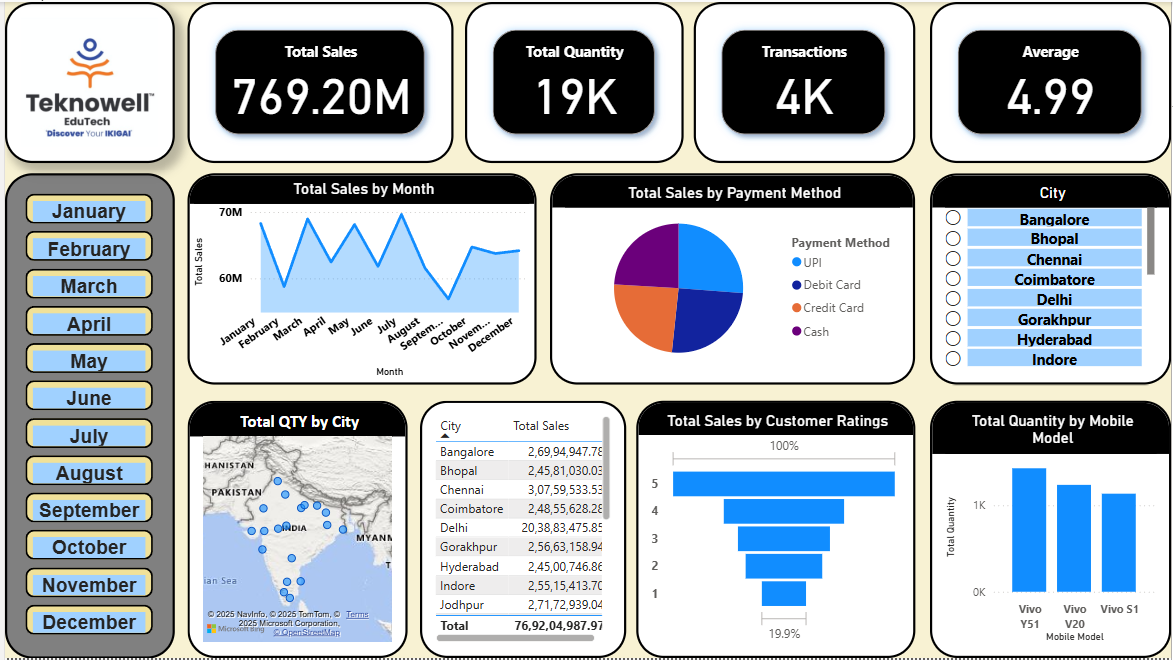

The dashboard page shown, as its layout file describes it:
{"tool":"powerbi","page":{"name":"Page 1","canvas":[1280,720],"ordinal":0},"visuals":[{"type":"advancedSlicerVisual","fields":{"Values":["Sales_Data.Date.Variation.Date Hierarchy.Month"]},"box":[0,188,186.6,532.4],"z":0},{"type":"image","box":[0,0,186.6,177],"z":1000},{"type":"cardVisual","fields":{"Data":["Sales_Data.Total Sales"]},"box":[200.3,0,292.3,177],"z":2000},{"type":"cardVisual","fields":{"Data":["Sales_Data.Total Quantity"]},"box":[505,0,240.1,177],"z":3000},{"type":"cardVisual","fields":{"Data":["Sales_Data.Transactions"]},"box":[756.1,0,242.9,177],"z":4000},{"type":"cardVisual","fields":{"Data":["Sales_Data.Average"]},"box":[1015.4,0,264.8,177],"z":5000},{"type":"lineChart","fields":{"Y":["Sales_Data.Total Sales"],"Category":["Sales_Data.Date.Variation.Date Hierarchy.Month"]},"box":[200.3,188,382.8,231.9],"z":6000},{"type":"pieChart","fields":{"Category":["Sales_Data.Payment Method"],"Y":["Sales_Data.Total Sales"]},"box":[598.3,188,400.7,231.9],"z":7000},{"type":"map","title":"Total QTY by City","fields":{"Category":["Sales_Data.City"]},"box":[200.3,437.7,241.5,282.7],"z":8000},{"type":"tableEx","fields":{"Values":["Sales_Data.City","Sales_Data.Total Sales"]},"box":[455.6,437.7,226.4,282.7],"z":9000},{"type":"listSlicer","fields":{"Values":["Sales_Data.City"]},"box":[1015.4,188,264.8,231.9],"z":10000},{"type":"funnel","fields":{"Category":["Sales_Data.Customer Ratings"],"Y":["Sales_Data.Total Sales"]},"box":[693,437.7,306,282.7],"z":11000},{"type":"clusteredColumnChart","fields":{"Y":["Sales_Data.Total Quantity"],"Category":["Sales_Data.Mobile Model"]},"box":[1015.4,437.7,264.8,282.7],"z":12000}]}

Visuals, with their boxes in screenshot pixels (x1, y1, x2, y2), scaled from the page's 1280x720 canvas onto the 1173x660 screenshot:
advancedSlicerVisual - Sales_Data.Date.Variation.Date Hierarchy.Month: <region>0, 172, 171, 659</region>
image: <region>0, 0, 171, 162</region>
cardVisual - Sales_Data.Total Sales: <region>184, 0, 451, 162</region>
cardVisual - Sales_Data.Total Quantity: <region>463, 0, 683, 162</region>
cardVisual - Sales_Data.Transactions: <region>693, 0, 915, 162</region>
cardVisual - Sales_Data.Average: <region>931, 0, 1172, 162</region>
lineChart - Sales_Data.Total Sales x Sales_Data.Date.Variation.Date Hierarchy.Month: <region>184, 172, 534, 385</region>
pieChart - Sales_Data.Payment Method x Sales_Data.Total Sales: <region>548, 172, 915, 385</region>
"Total QTY by City" map: <region>184, 401, 405, 659</region>
tableEx - Sales_Data.City x Sales_Data.Total Sales: <region>418, 401, 625, 659</region>
listSlicer - Sales_Data.City: <region>931, 172, 1172, 385</region>
funnel - Sales_Data.Customer Ratings x Sales_Data.Total Sales: <region>635, 401, 915, 659</region>
clusteredColumnChart - Sales_Data.Total Quantity x Sales_Data.Mobile Model: <region>931, 401, 1172, 659</region>
